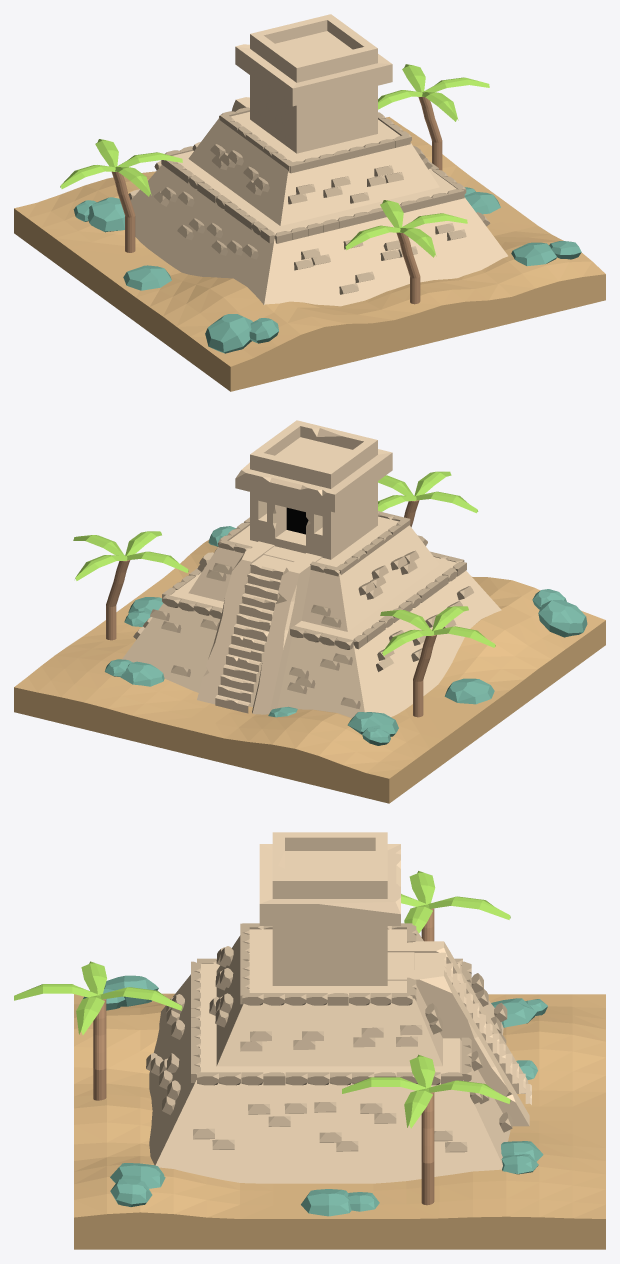
3 renders of one model, top to bottom at view 1: azimuth 30°, elevation 25°; view 2: azimuth 150°, elevation 25°; view 3: azimuth 270°, elevation 25°, orthographic. The views are drawn at different scales.
Visible parts, largest first — view 1: Plane, Plane.003, Cube.150, Cube.145, Cube.156, Cylinder, Cube.153, Cylinder.002, Cylinder.001, Cube.151, Cube.155; view 2: Plane.003, Plane, Plane.001, Plane.004, Cube.150, Cube.156, Cylinder, Cylinder.001, Cube.145, Cube.149; view 3: Plane, Plane.003, Plane.001, Plane.004, Cylinder.001, Cylinder.002, Cube.155, Cube.153, Cube.152, Cube.150, Cube.145, Plane.011 (+11 smaller).
Part boxes in pixels (x1=…): Plane: x1=130, y1=14, x2=507, y2=306; Plane.003: x1=14, y1=117, x2=605, y2=391; Cube.150: x1=205, y1=314, x2=252, y2=353; Cube.145: x1=87, y1=197, x2=124, y2=232; Cube.156: x1=123, y1=265, x2=171, y2=290; Cylinder: x1=111, y1=171, x2=135, y2=252; Cube.153: x1=511, y1=242, x2=556, y2=266; Cylinder.002: x1=396, y1=232, x2=420, y2=304; Cylinder.001: x1=418, y1=97, x2=442, y2=170; Cube.151: x1=249, y1=318, x2=278, y2=343; Cube.155: x1=464, y1=192, x2=500, y2=214; Plane.003: x1=14, y1=528, x2=605, y2=803; Plane: x1=122, y1=420, x2=501, y2=717; Plane.001: x1=197, y1=541, x2=322, y2=714; Plane.004: x1=215, y1=562, x2=284, y2=713; Cube.150: x1=538, y1=599, x2=587, y2=637; Cube.156: x1=444, y1=678, x2=494, y2=704; Cylinder: x1=413, y1=635, x2=436, y2=717; Cylinder.001: x1=106, y1=560, x2=130, y2=640; Cube.145: x1=347, y1=712, x2=398, y2=736; Cube.149: x1=120, y1=661, x2=164, y2=686; Plane: x1=149, y1=832, x2=510, y2=1183; Plane.003: x1=74, y1=993, x2=605, y2=1249; Plane.001: x1=387, y1=941, x2=529, y2=1126; Plane.004: x1=440, y1=952, x2=531, y2=1104; Cylinder.001: x1=421, y1=1092, x2=434, y2=1205; Cylinder.002: x1=93, y1=999, x2=106, y2=1100; Cube.155: x1=301, y1=1189, x2=351, y2=1216; Cube.153: x1=110, y1=1163, x2=165, y2=1188; Cube.152: x1=110, y1=1179, x2=152, y2=1206; Cube.150: x1=104, y1=975, x2=158, y2=1006; Cube.145: x1=491, y1=998, x2=536, y2=1027; Plane.011: x1=428, y1=1080, x2=510, y2=1103.
Bounding box in the file's own units: 3.74 × 1.92 × 3.67.
